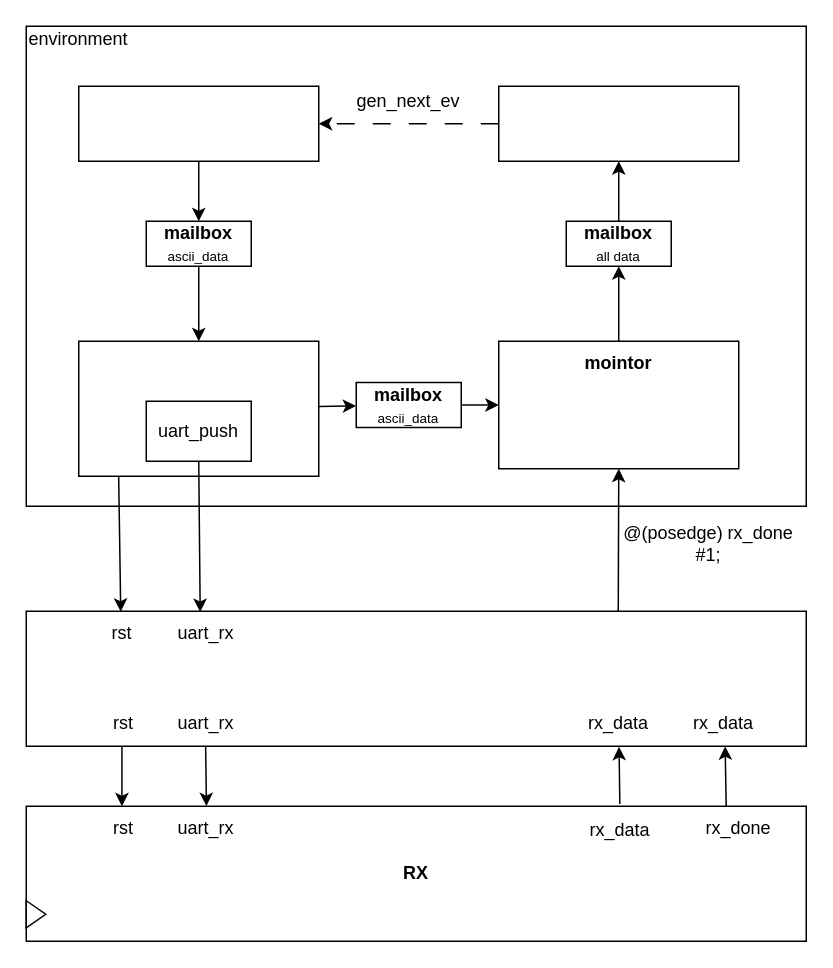
Some shapes in this 833 by 968 pixel diagram are drawn without their labels. The shapes that lost their labels are listed below. From the top down, each one's box as (x1, y1, x2, y2) in pixels, then its label:
(77, 85, 319, 161): generator (rand bit [7:0] ascii_data)
(497, 85, 739, 161): scoreboard
(77, 340, 319, 476): driver
(25, 610, 806, 746): interface
